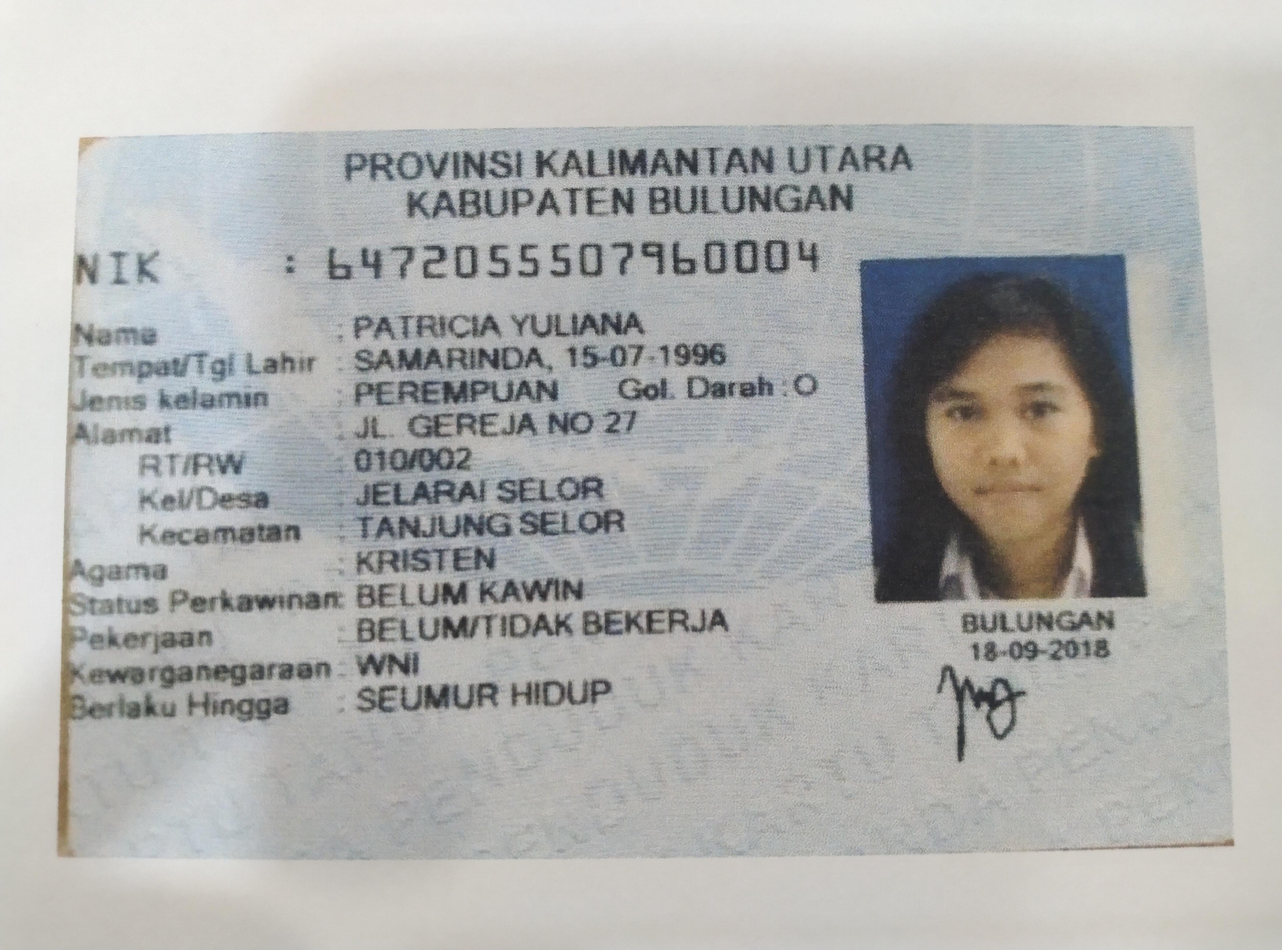ID-card: (68, 132, 1229, 841)
